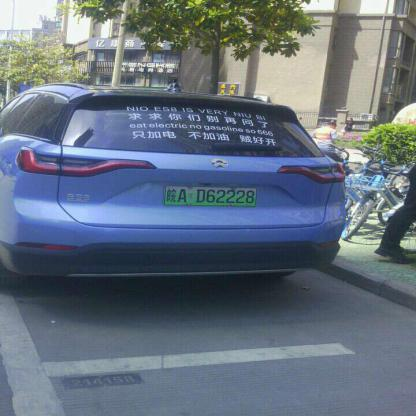lp: (164, 185, 256, 207)
